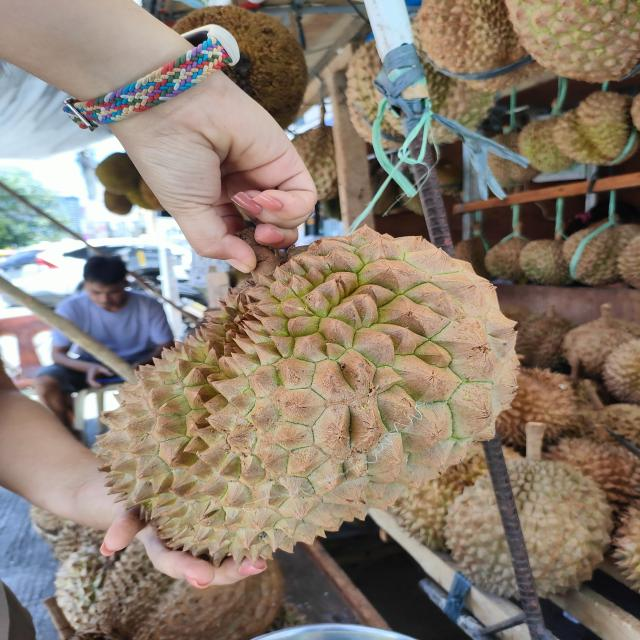mature: (92, 220, 526, 551)
